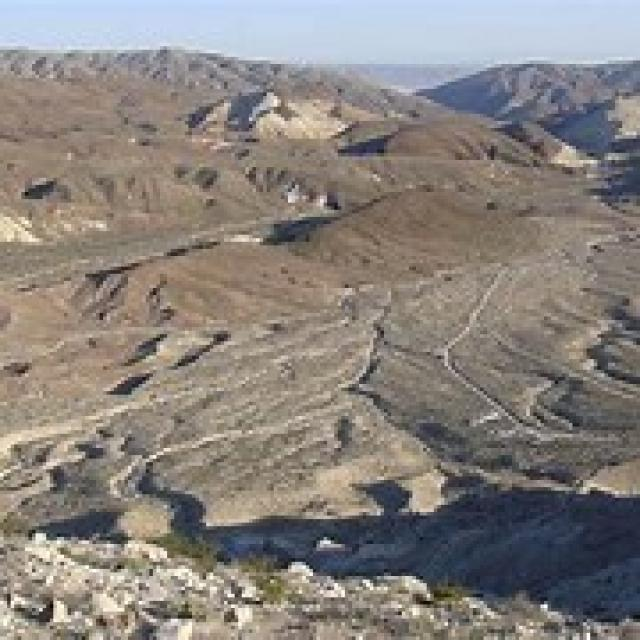Alluvial Soil: (28, 137, 596, 583)
